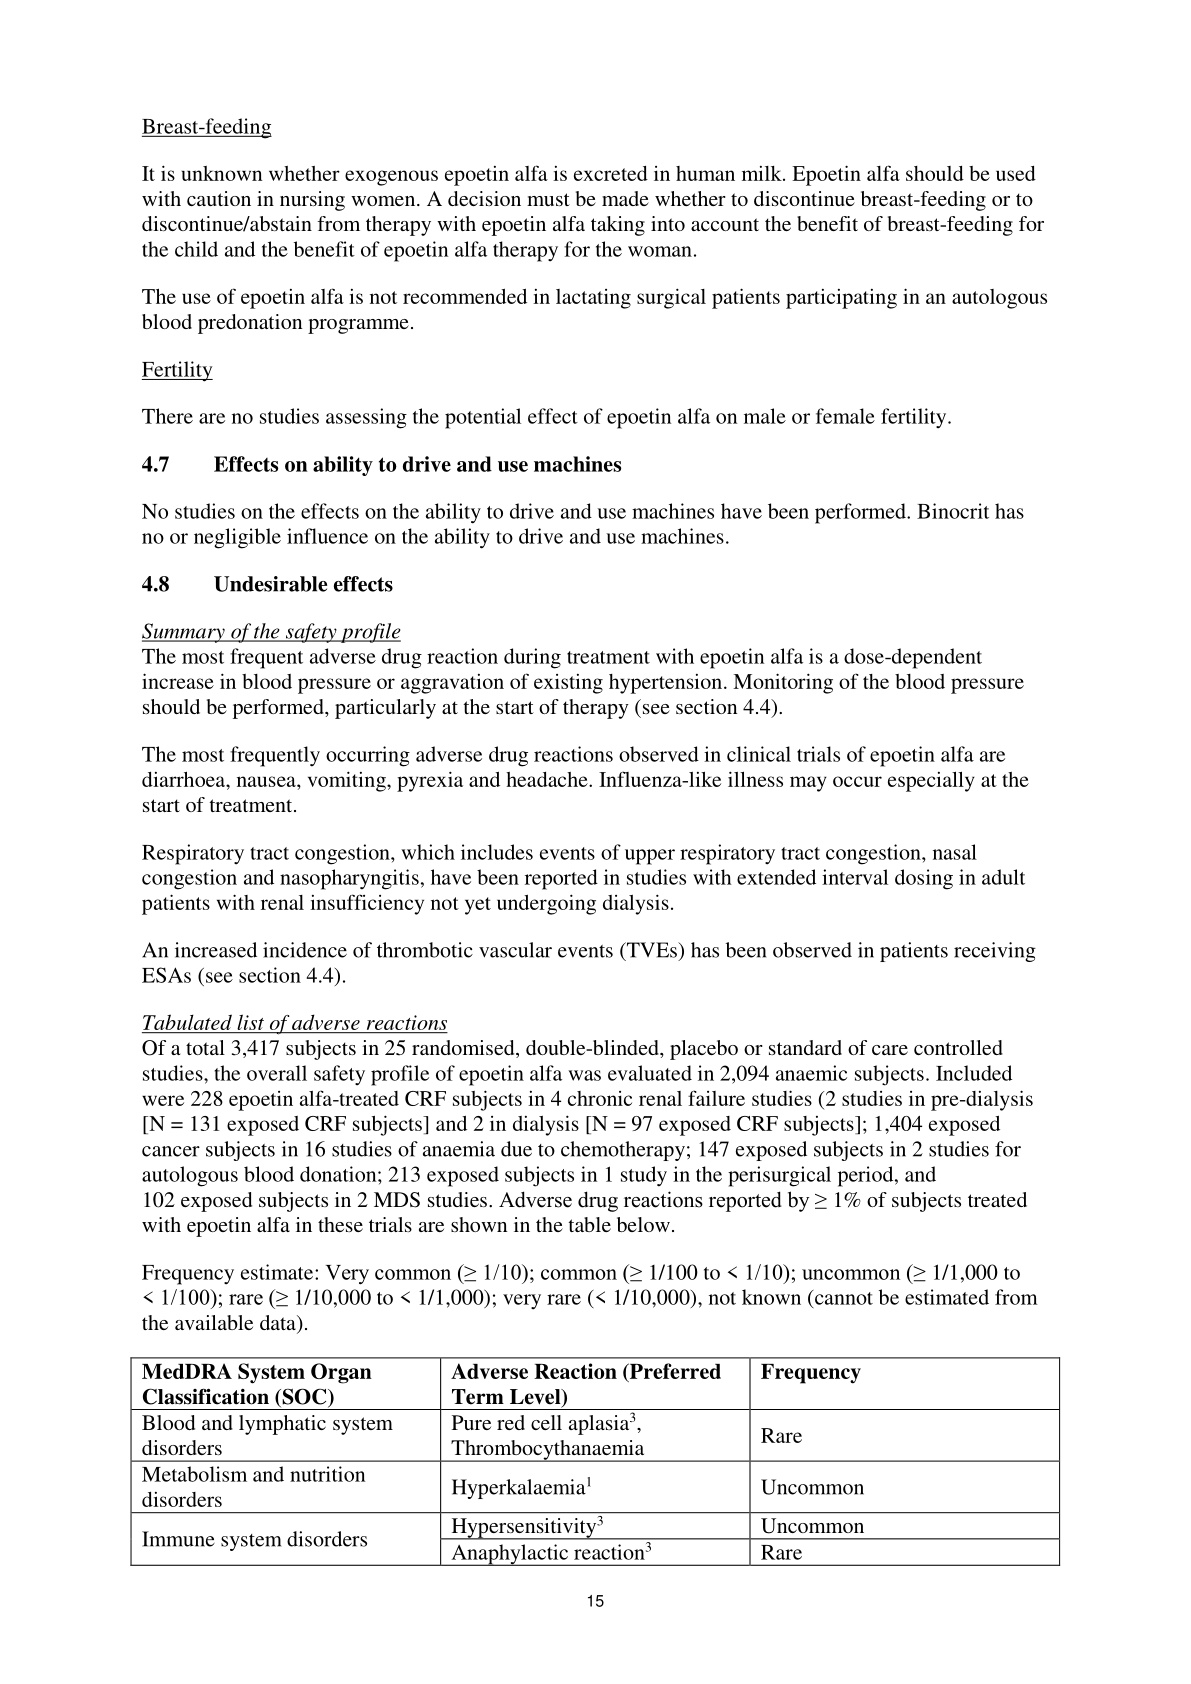full_lined: (129, 1355, 1061, 1568)
